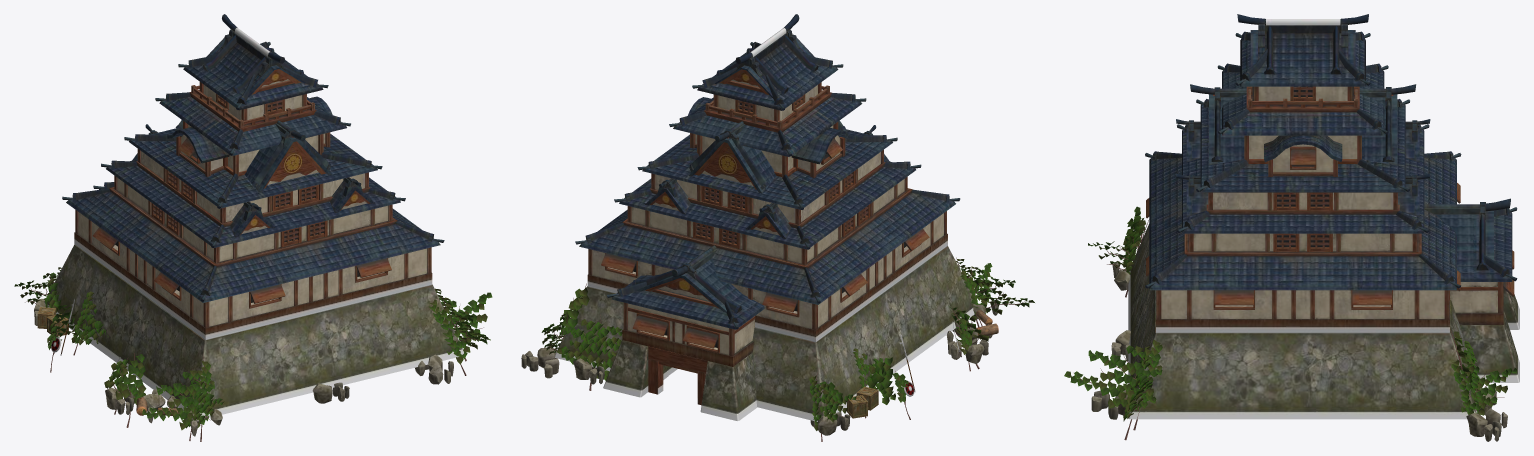
File: 68-castle.glb
The picture shows the model from 3 angles, left to right: view 1: azimuth 30°, elevation 25°; view 2: azimuth 150°, elevation 25°; view 3: azimuth 270°, elevation 25°; orthographic projection. The views are drawn at different scales.
Size of the model in its own units: 13.28 by 11.38 by 13.06.
9 materials, 9 textured.
